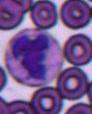N: (3, 28, 61, 86)
